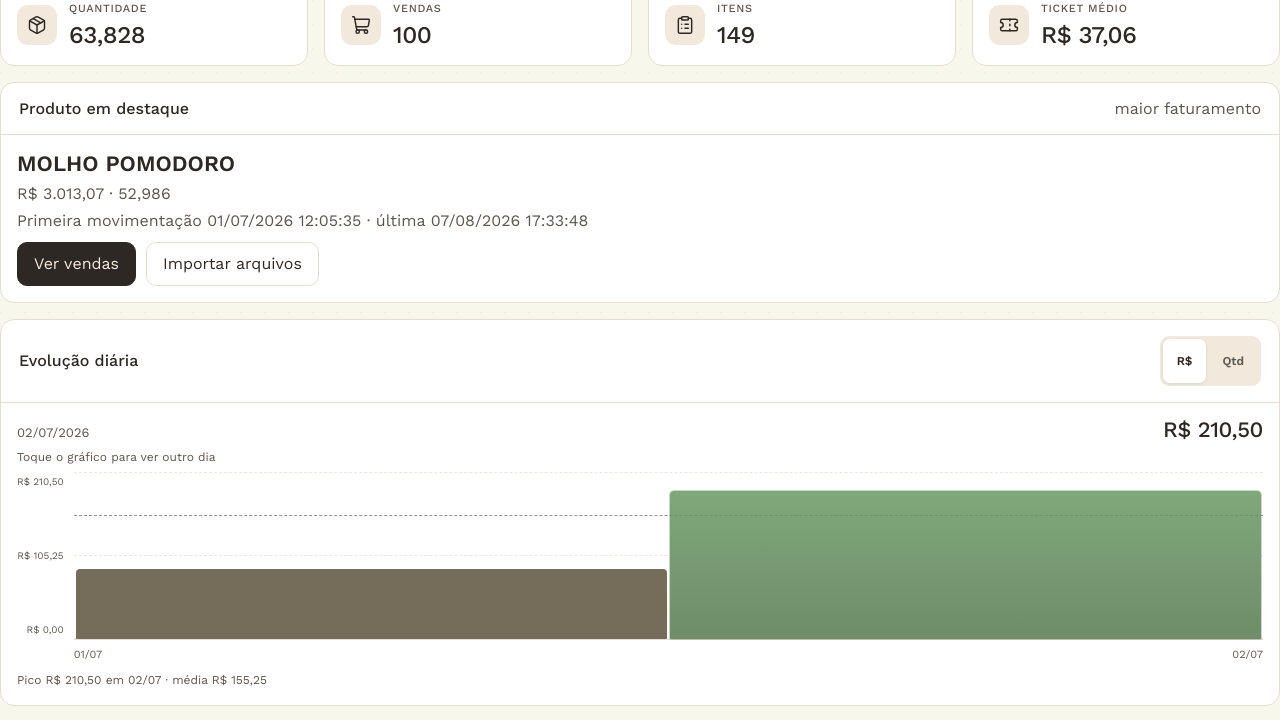
DashboardPage › switches the daily chart metric from revenue to quantity
(page scrolled)
Expected: the text "R$ 210,50" in the row of "02/07/2026" is shown, [1163, 417, 1263, 442]
Click the button "Qtd".
click(1233, 361)  # box [1208, 339, 1258, 383]
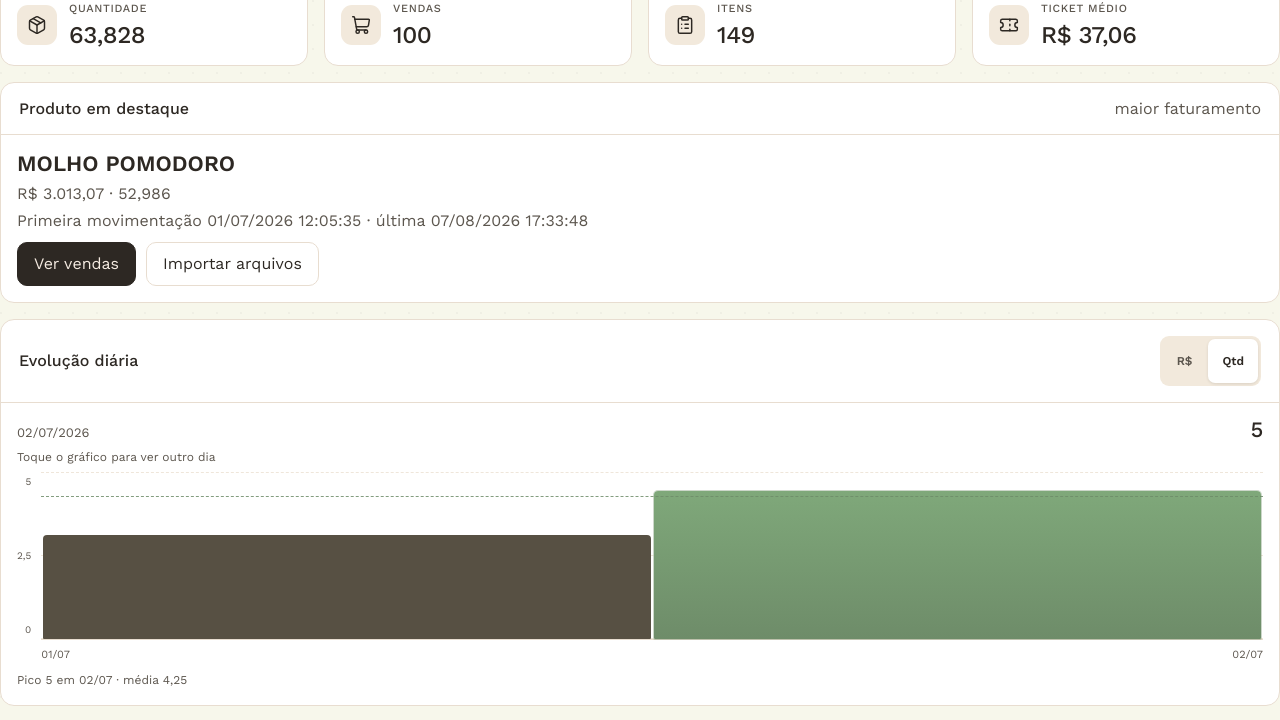
Expected: the text "5" in the row of "02/07/2026" is shown, [1251, 417, 1263, 442]
Click the button "R$".
click(1184, 361)  # box [1163, 339, 1206, 383]
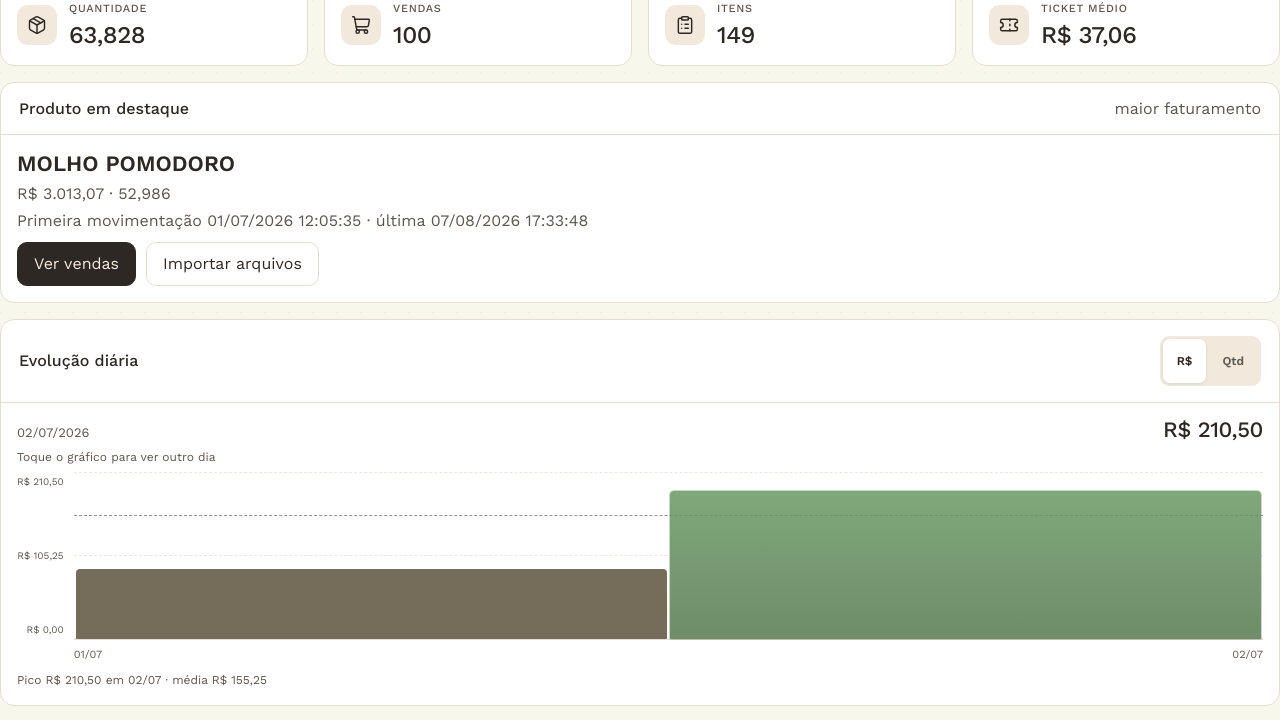
Expected: the button "R$" has class "active", [1163, 339, 1206, 383]
